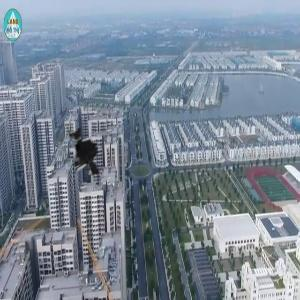drone: (43, 117, 121, 195)
